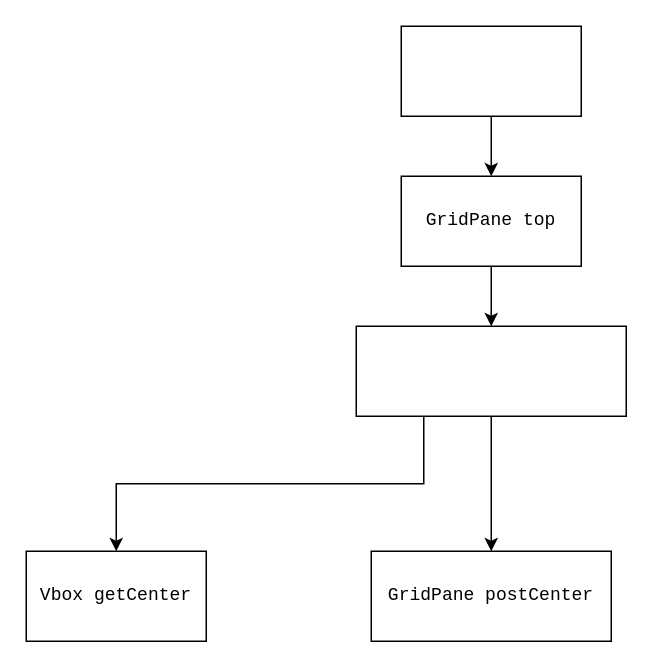
Some shapes in this 653 by 668 pixel diagram are drawn without their labels. The shapes that lost their labels are listed below. From the top down, each one's centre as x and y in pixels, then its label:
At point 490,70: "Borderpane root".
At point 490,370: "StackPane stackPane".
